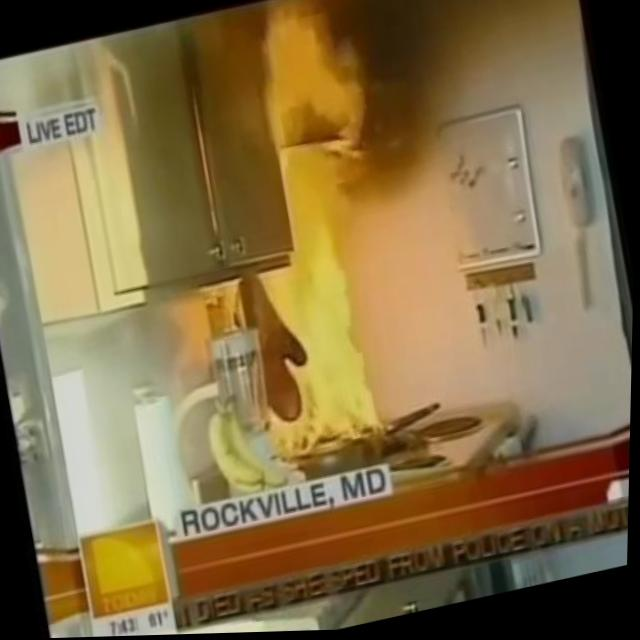fire: (243, 0, 401, 273), (211, 250, 410, 466)
